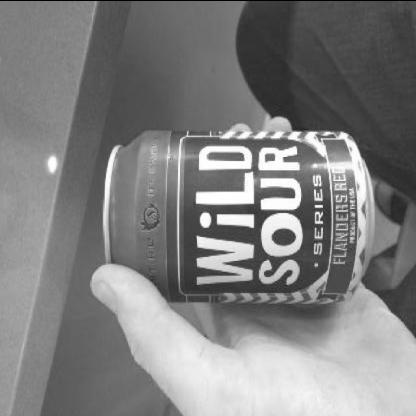alumunium_can: (103, 129, 374, 302)
